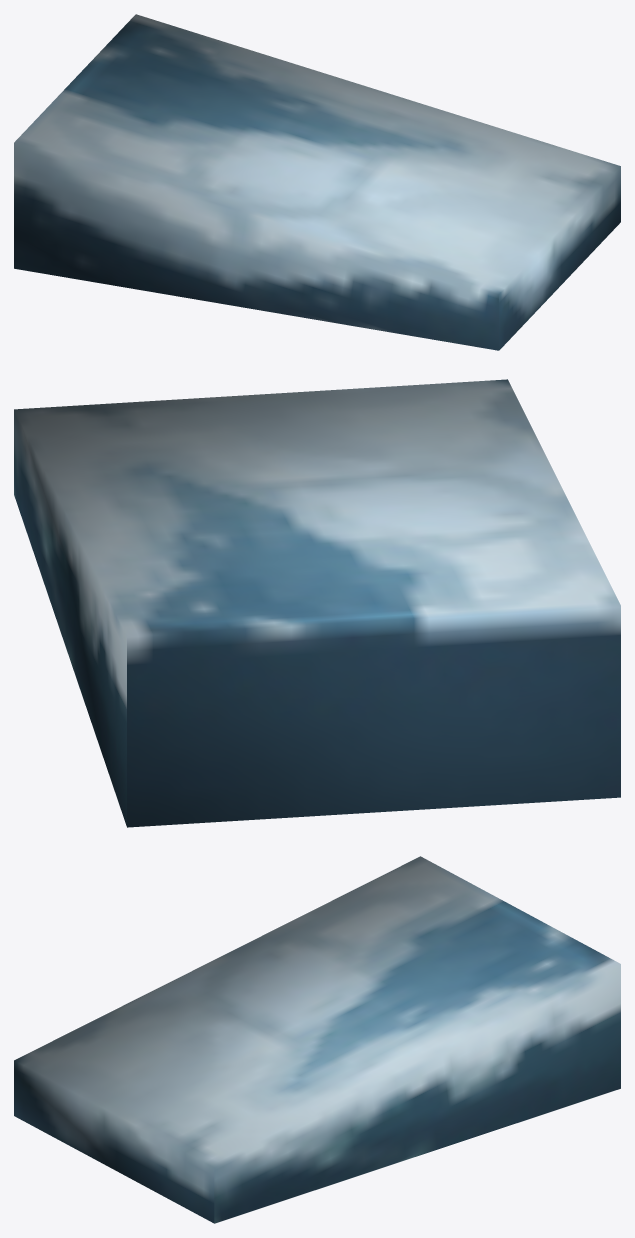
Rendered from Stage_BingYuan_FengHuoTaiShiDui04.FBX.
3 renders of one model, top to bottom at view 1: azimuth 30°, elevation 25°; view 2: azimuth 150°, elevation 25°; view 3: azimuth 270°, elevation 25°, orthographic. The views are drawn at different scales.
Visible parts, largest first — view 1: Stage_BingYuan_FengHuoTaiShiDui04; view 2: Stage_BingYuan_FengHuoTaiShiDui04; view 3: Stage_BingYuan_FengHuoTaiShiDui04.
Part boxes in pixels (<box>): Stage_BingYuan_FengHuoTaiShiDui04: <box>14,14,620,350</box>; Stage_BingYuan_FengHuoTaiShiDui04: <box>14,379,620,827</box>; Stage_BingYuan_FengHuoTaiShiDui04: <box>14,856,620,1223</box>.
Bounding box in the file's own units: 70.44 × 16.86 × 74.42.
